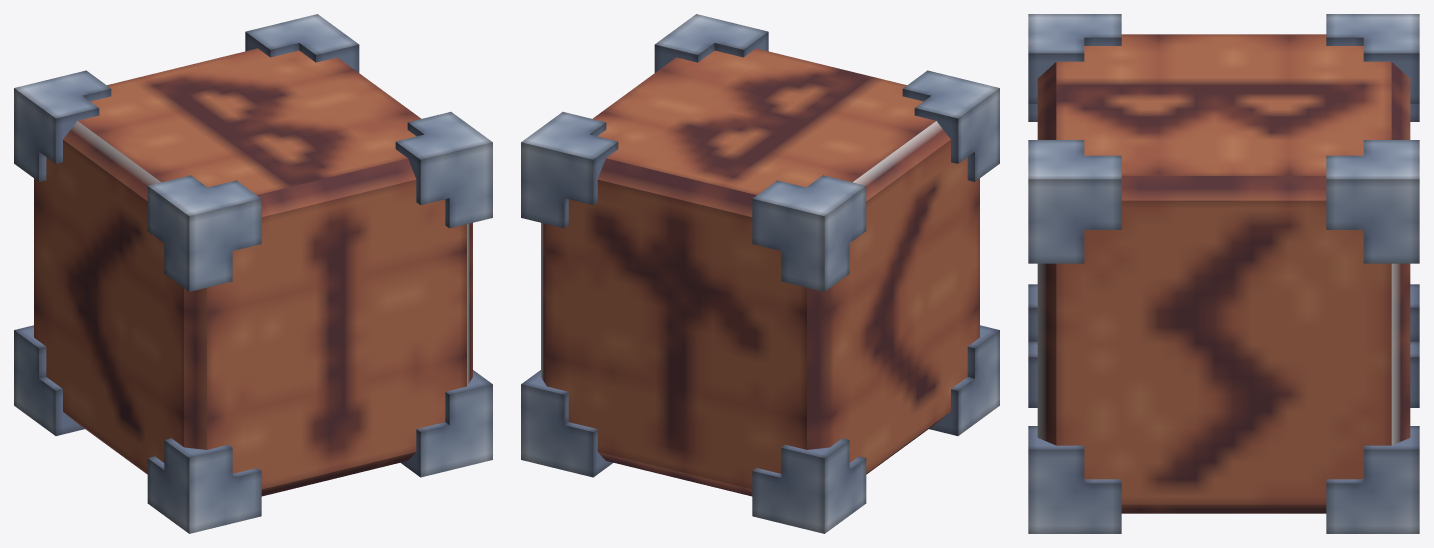
The model's file is player_dice.fbx.
The picture shows the model from 3 angles, left to right: view 1: azimuth 30°, elevation 25°; view 2: azimuth 150°, elevation 25°; view 3: azimuth 270°, elevation 25°; orthographic projection. The views are drawn at different scales.
Parts seen in each view (by area): view 1: Cube; view 2: Cube; view 3: Cube.
Part boxes in pixels (box(x1,y1,x2,y2)): Cube: box(14, 14, 492, 533); Cube: box(521, 14, 999, 533); Cube: box(1028, 14, 1419, 533).
Size of the model in its own units: 210 by 210 by 210.
